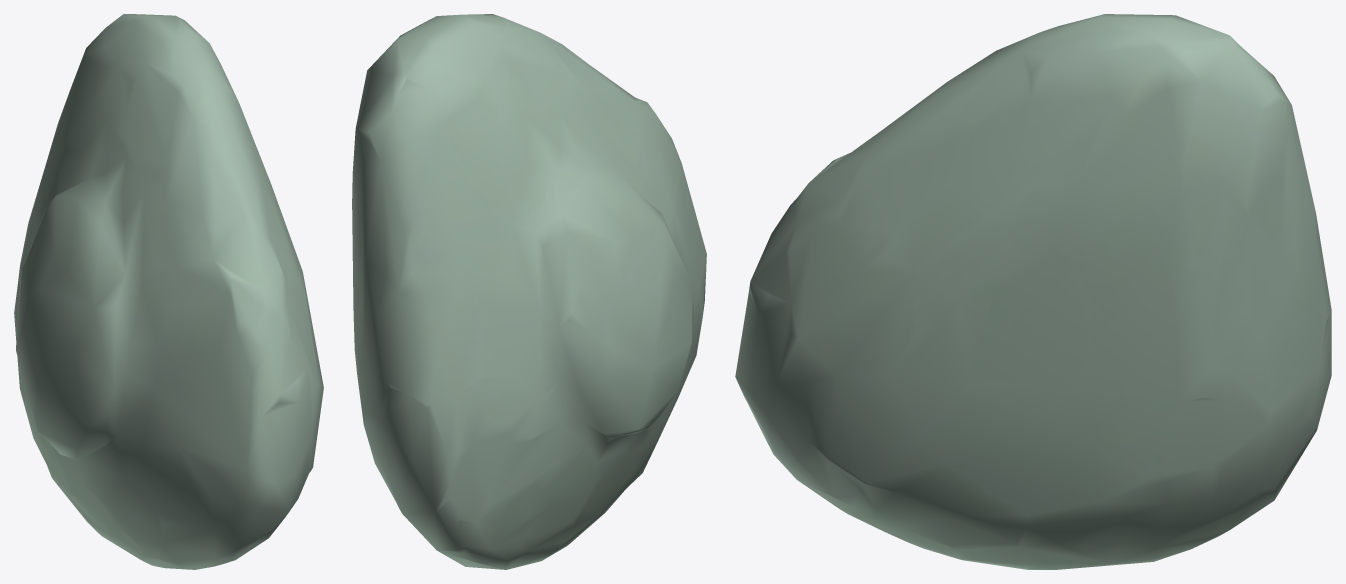
The model's file is seaglass.glb.
The picture shows the model from 3 angles, left to right: view 1: azimuth 30°, elevation 25°; view 2: azimuth 150°, elevation 25°; view 3: azimuth 270°, elevation 25°; orthographic projection. The views are drawn at different scales.
Visible parts, largest first — view 1: tripo_node_3118beba-9ae2-4f81-8085-c2bdceb5a90b; view 2: tripo_node_3118beba-9ae2-4f81-8085-c2bdceb5a90b; view 3: tripo_node_3118beba-9ae2-4f81-8085-c2bdceb5a90b.
Boxes of the visible parts, left/top/right/bottom form: tripo_node_3118beba-9ae2-4f81-8085-c2bdceb5a90b: left=14, top=14, right=323, bottom=569; tripo_node_3118beba-9ae2-4f81-8085-c2bdceb5a90b: left=352, top=14, right=706, bottom=569; tripo_node_3118beba-9ae2-4f81-8085-c2bdceb5a90b: left=735, top=14, right=1331, bottom=569.
Bounding box in the file's own units: 0.4826 × 1 × 0.9313.
1 material, 1 textured.
